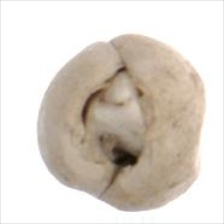L3: (79, 66, 153, 170)
L4: (35, 32, 206, 212)
